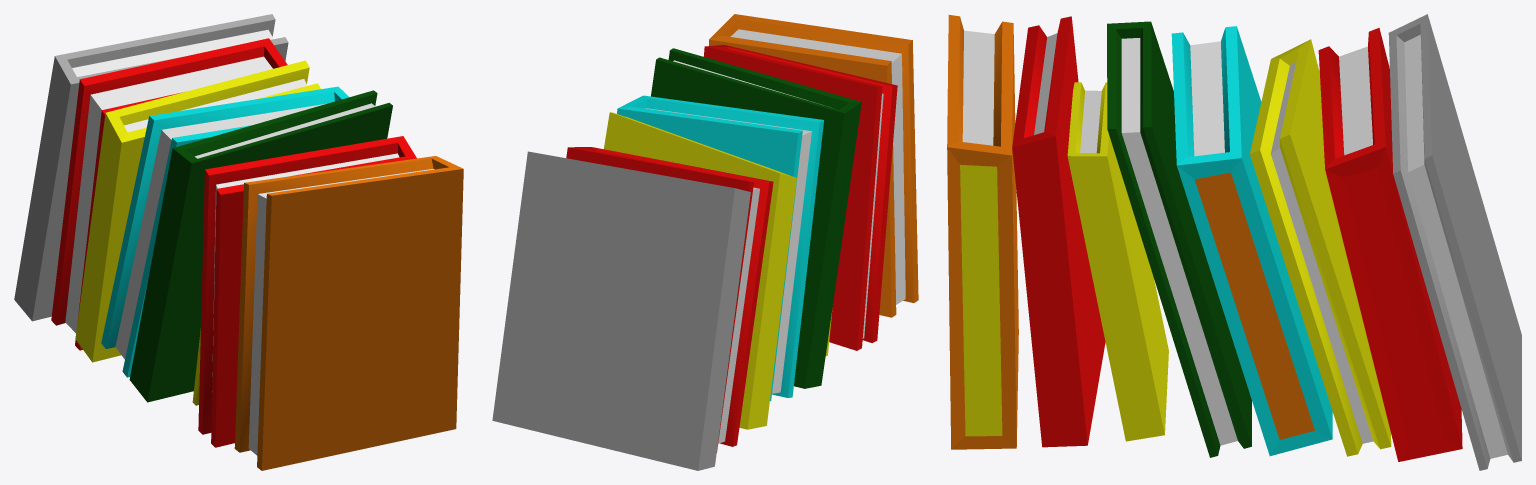
File: Books_4.fbx
3 renders of one model, left to right at view 1: azimuth 30°, elevation 25°; view 2: azimuth 150°, elevation 25°; view 3: azimuth 270°, elevation 25°, orthographic. The views are drawn at different scales.
Visible parts, largest first — view 1: Books_4; view 2: Books_4; view 3: Books_4.
Part boxes in pixels (x1,y1,x2,y2): Books_4: [14, 14, 463, 470]; Books_4: [492, 14, 918, 470]; Books_4: [947, 14, 1521, 470].
Size of the model in its own units: 27.81 by 34.88 by 52.62.
